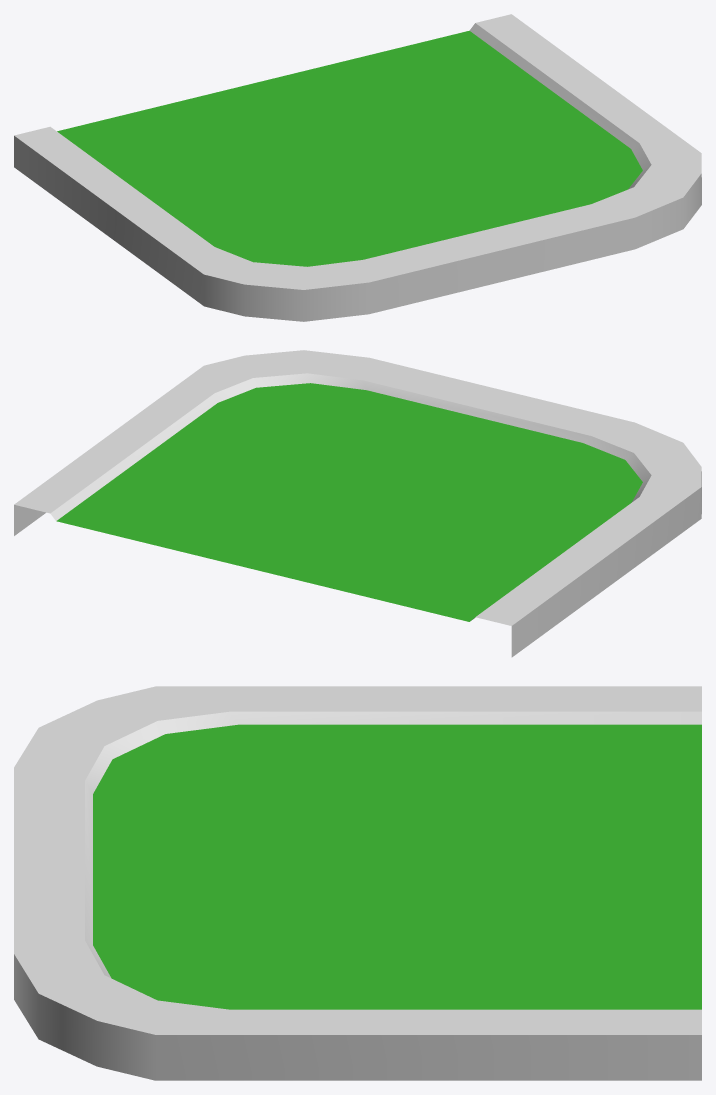
The model's file is GrassBed_1_B_3_.fbx.
3 views of the same model, one above another, from view 1: azimuth 30°, elevation 25°; view 2: azimuth 150°, elevation 25°; view 3: azimuth 270°, elevation 25° (orthographic). The views are drawn at different scales.
Parts seen in each view (by area): view 1: GrassBed_1_B_3; view 2: GrassBed_1_B_3; view 3: GrassBed_1_B_3.
Boxes of the visible parts, <box> form: GrassBed_1_B_3: <box>14,14,701,321</box>; GrassBed_1_B_3: <box>14,350,701,657</box>; GrassBed_1_B_3: <box>14,686,701,1080</box>.
Bounding box in the file's own units: 120 × 7.32 × 100.
